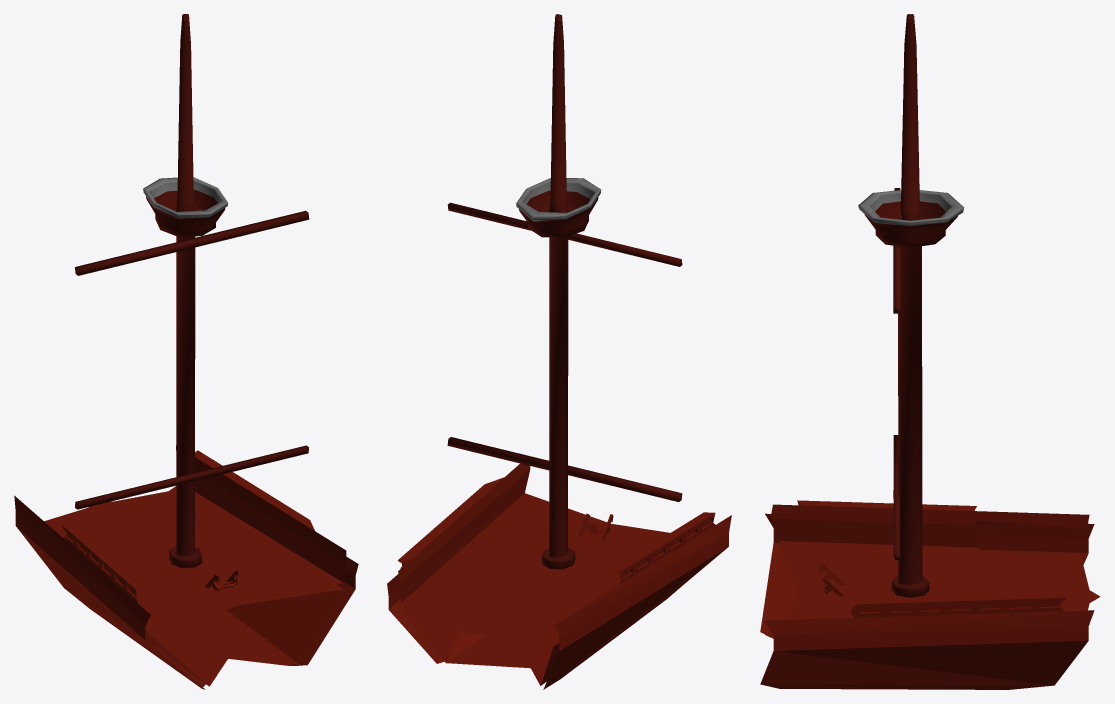
Rendered from ship_piece1.obj.
The picture shows the model from 3 angles, left to right: view 1: azimuth 30°, elevation 25°; view 2: azimuth 150°, elevation 25°; view 3: azimuth 270°, elevation 25°; orthographic projection. The views are drawn at different scales.
Visible parts, largest first — view 1: Cube.001; view 2: Cube.001; view 3: Cube.001.
Boxes of the visible parts, x1=… form: Cube.001: x1=14, y1=14, x2=358, y2=689; Cube.001: x1=387, y1=14, x2=731, y2=689; Cube.001: x1=760, y1=14, x2=1100, y2=689.
Size of the model in its own units: 2.08 by 5.3 by 2.52.
